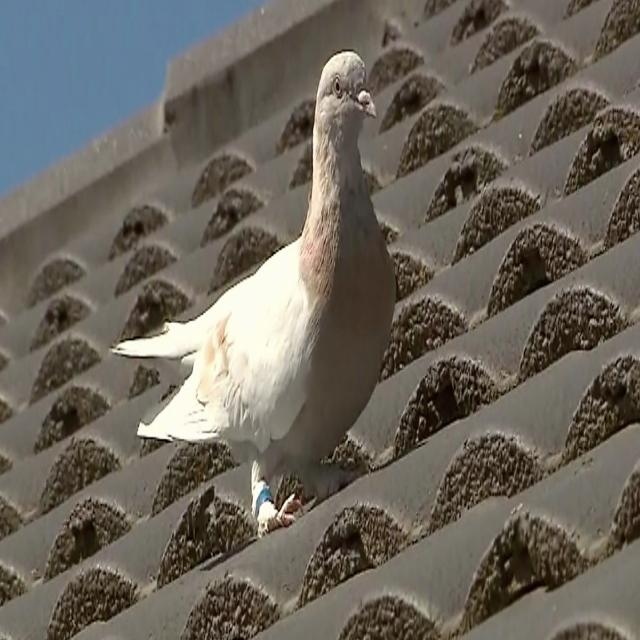pigeon: (111, 50, 396, 534)
